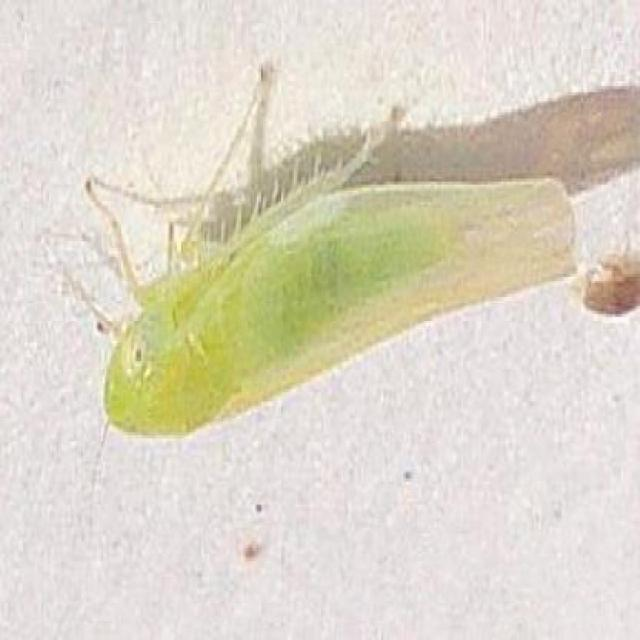green-leafhopper: (106, 173, 574, 441)
